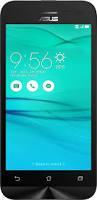asus: (1, 1, 95, 198)
